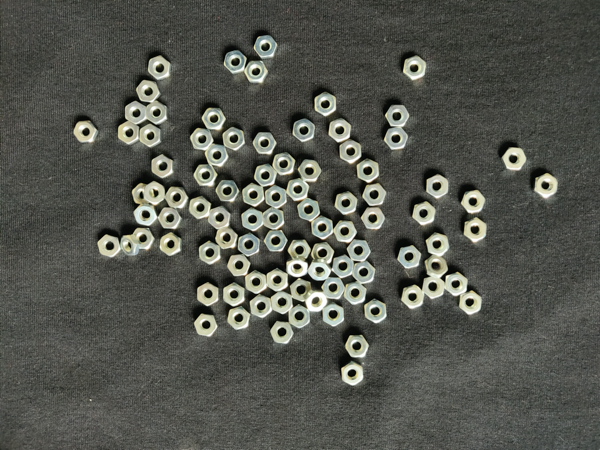nut: (534, 173, 559, 199), (148, 55, 172, 81), (502, 147, 527, 171), (412, 202, 437, 226), (403, 56, 427, 81), (462, 190, 486, 214), (445, 273, 469, 297), (205, 143, 229, 167), (254, 35, 278, 59), (460, 290, 483, 315), (402, 285, 425, 310), (384, 128, 409, 151), (341, 361, 364, 386), (362, 183, 387, 206), (228, 306, 251, 331), (224, 50, 247, 75), (190, 128, 215, 151), (425, 255, 449, 278), (398, 246, 422, 269), (357, 159, 380, 183), (347, 239, 371, 262), (344, 281, 367, 305), (298, 160, 322, 183), (298, 198, 321, 222), (273, 152, 296, 176), (254, 164, 278, 187), (253, 132, 277, 155), (250, 295, 273, 319), (238, 233, 261, 257), (227, 254, 251, 277), (194, 314, 218, 337), (208, 206, 231, 230), (244, 61, 268, 84), (160, 232, 183, 256), (98, 234, 121, 258), (137, 80, 161, 103), (427, 174, 449, 199), (365, 299, 387, 324), (345, 336, 370, 358), (315, 92, 337, 117), (340, 139, 362, 164), (361, 208, 386, 230), (293, 118, 315, 143), (197, 282, 219, 307), (223, 126, 245, 151), (152, 154, 174, 179), (73, 121, 98, 143), (466, 218, 487, 244), (353, 261, 376, 284), (335, 192, 358, 215), (322, 277, 345, 300), (287, 178, 310, 201), (305, 289, 328, 312), (271, 321, 294, 344), (263, 207, 286, 230), (166, 186, 189, 209), (386, 105, 410, 127), (329, 119, 351, 143), (312, 216, 334, 240), (308, 259, 332, 281), (290, 279, 312, 303), (271, 291, 293, 315), (264, 230, 288, 252), (265, 185, 287, 209), (243, 183, 265, 207), (224, 283, 246, 307), (216, 180, 240, 202), (194, 165, 218, 187), (190, 196, 212, 220), (134, 204, 158, 226), (140, 124, 162, 148), (202, 109, 227, 130), (423, 277, 446, 299), (428, 233, 450, 256), (334, 221, 357, 243), (333, 255, 355, 278), (245, 271, 267, 294), (199, 242, 221, 265), (216, 227, 239, 249), (323, 303, 344, 327), (311, 243, 335, 264), (289, 305, 310, 329), (242, 207, 263, 231), (159, 208, 183, 229), (147, 101, 168, 125), (118, 121, 139, 145), (267, 269, 288, 292), (132, 184, 155, 205), (126, 101, 146, 125), (133, 229, 155, 250), (145, 182, 165, 205), (287, 257, 309, 277), (288, 240, 311, 259), (121, 235, 140, 256)
